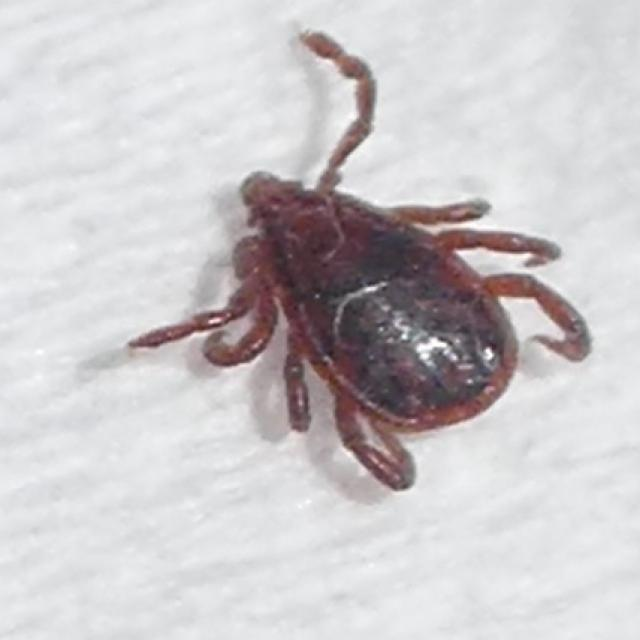Rhipicephalus Sanguineus-M: (127, 32, 591, 492)
